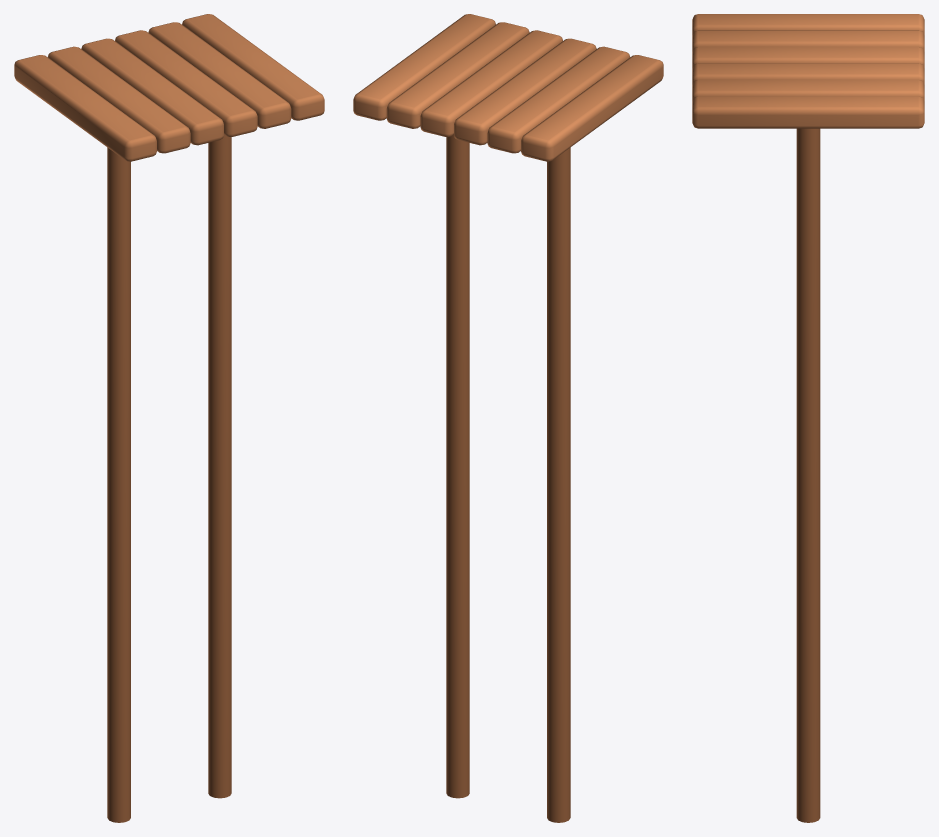
Rendered from fishing_town_bridge.fbx.
The picture shows the model from 3 angles, left to right: view 1: azimuth 30°, elevation 25°; view 2: azimuth 150°, elevation 25°; view 3: azimuth 270°, elevation 25°; orthographic projection.
Parts seen in each view (by area): view 1: fishing_town_bridge; view 2: fishing_town_bridge; view 3: fishing_town_bridge.
Boxes of the visible parts, x1,y1,x2,y2 form: fishing_town_bridge: [14, 14, 324, 822]; fishing_town_bridge: [353, 14, 663, 822]; fishing_town_bridge: [692, 14, 924, 822].
Bounding box in the file's own units: 99.93 × 348 × 100.
Materials: 1 (1 with a texture image).
